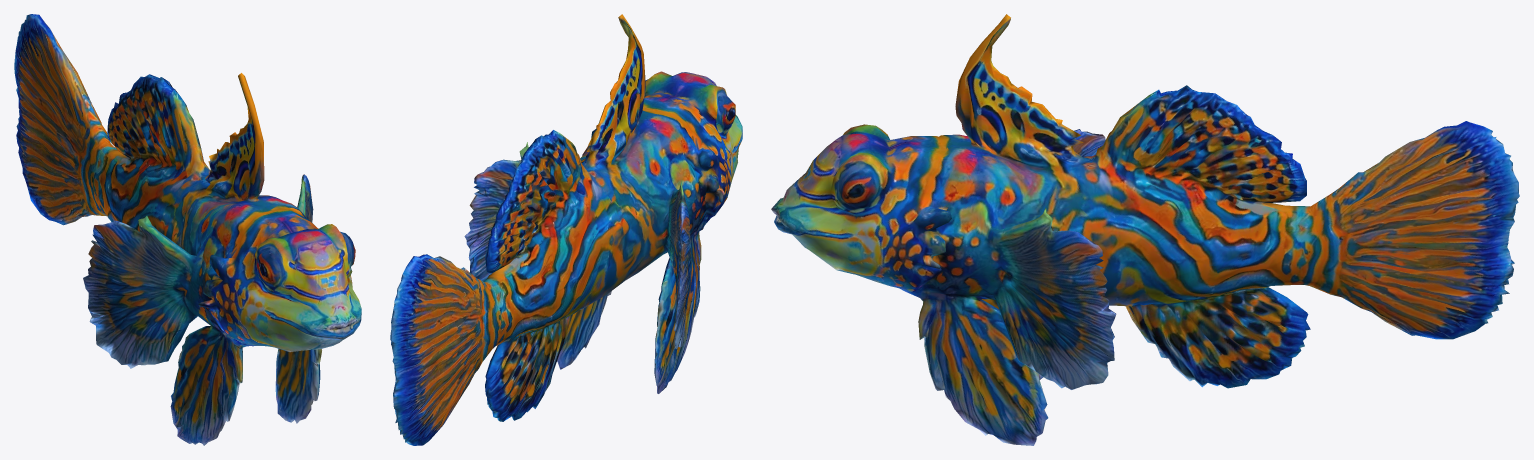
The model's file is mandarin.glb.
3 views of the same model, side by side, from view 1: azimuth 30°, elevation 25°; view 2: azimuth 150°, elevation 25°; view 3: azimuth 270°, elevation 25° (orthographic). The views are drawn at different scales.
Parts seen in each view (by area): view 1: tripo_node_8cfc40b4-ccab-4582-9dce-c6eb84d9f9ed; view 2: tripo_node_8cfc40b4-ccab-4582-9dce-c6eb84d9f9ed; view 3: tripo_node_8cfc40b4-ccab-4582-9dce-c6eb84d9f9ed.
Boxes of the visible parts, x1,y1,x2,y2 form: tripo_node_8cfc40b4-ccab-4582-9dce-c6eb84d9f9ed: (14,14,361,445); tripo_node_8cfc40b4-ccab-4582-9dce-c6eb84d9f9ed: (390,14,742,445); tripo_node_8cfc40b4-ccab-4582-9dce-c6eb84d9f9ed: (771,14,1519,445).
Bounding box in the file's own units: 0.377 × 0.5964 × 1.
Materials: 1 (1 with a texture image).
